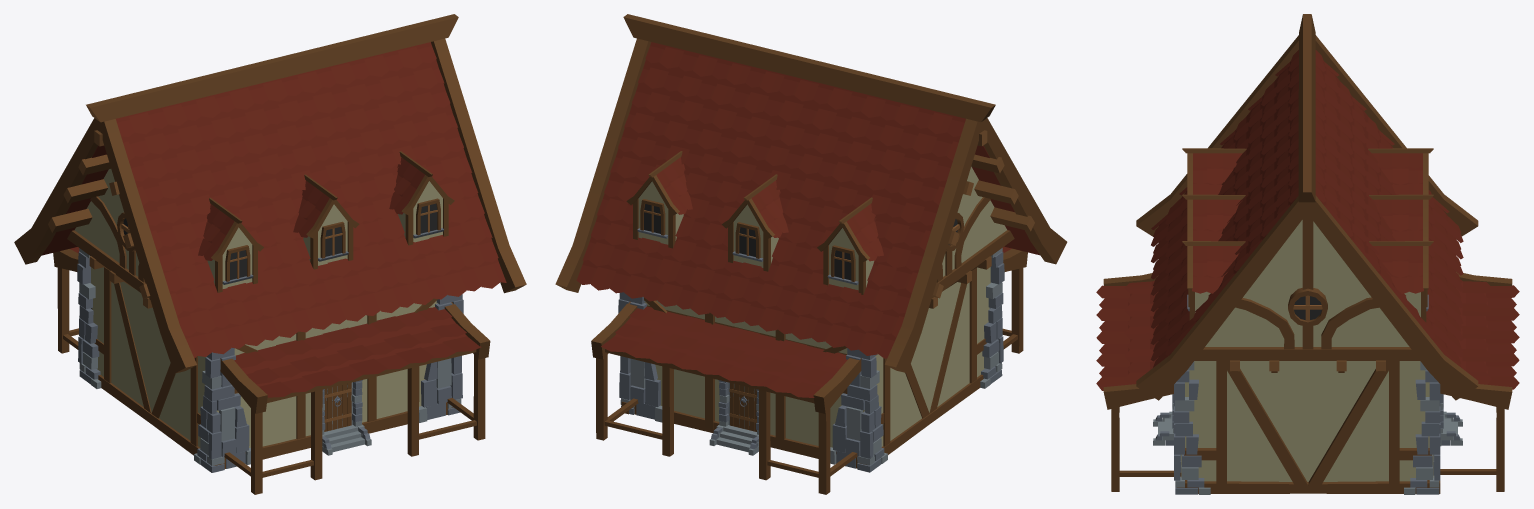
Rendered from Fantasy Inn.glb.
3 renders of one model, left to right at view 1: azimuth 30°, elevation 25°; view 2: azimuth 150°, elevation 25°; view 3: azimuth 270°, elevation 25°, orthographic.
Visible parts, largest first — view 1: Fantasy Inn; view 2: Fantasy Inn; view 3: Fantasy Inn.
Boxes of the visible parts, box(x1,y1,x2,y2) form: Fantasy Inn: box(14, 14, 526, 494); Fantasy Inn: box(555, 14, 1067, 494); Fantasy Inn: box(1096, 14, 1519, 494).
Size of the model in its own units: 4.03 by 3.49 by 4.02.
